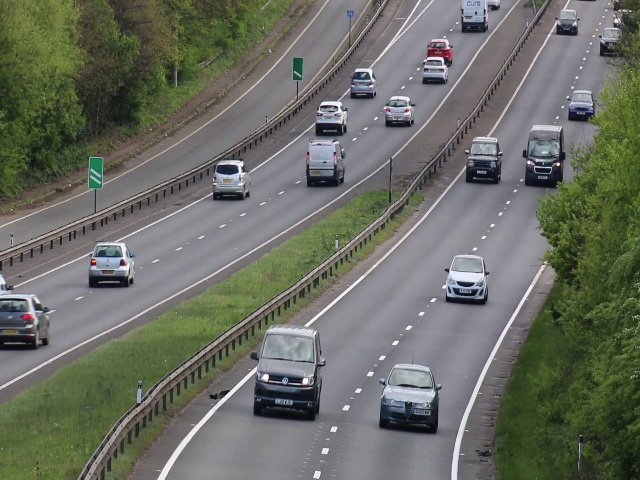car: (250, 330, 326, 419), (378, 363, 441, 434), (1, 293, 51, 349), (442, 253, 489, 305), (524, 127, 561, 190), (87, 243, 135, 289), (304, 140, 345, 186), (466, 138, 502, 185), (211, 161, 250, 199), (313, 97, 349, 135), (383, 94, 416, 126), (459, 1, 490, 32), (422, 54, 449, 86), (348, 69, 377, 98), (569, 89, 592, 123), (427, 37, 453, 63), (598, 26, 617, 57), (558, 8, 577, 33)
